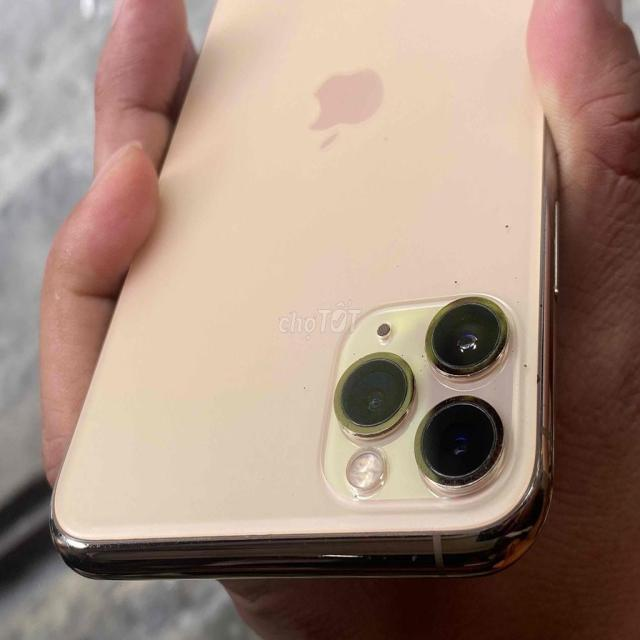scratch: (325, 334, 423, 428), (427, 290, 511, 376), (517, 346, 551, 408), (486, 204, 519, 232), (441, 272, 467, 288)
